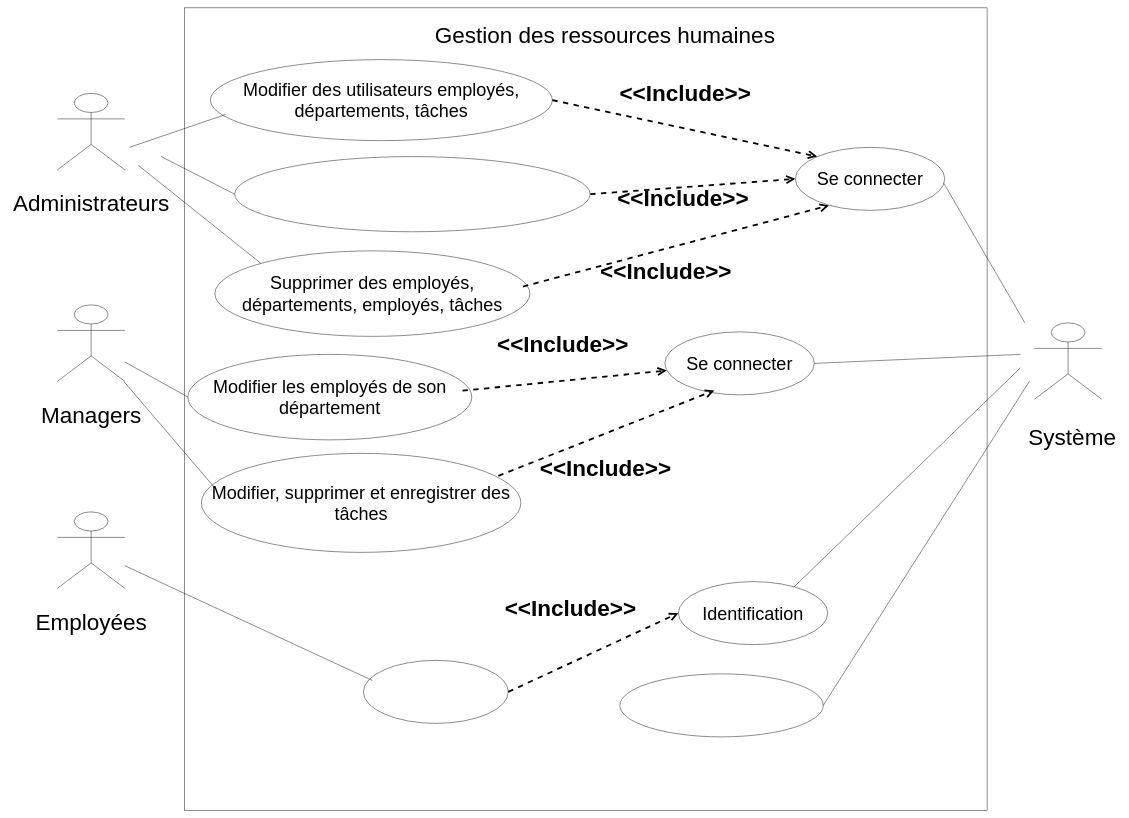
Some shapes in this 1129 by 818 pixel diagram are drawn without their labels. Each missing label, with the centre of its shape:
"Afficher tâches employé" goes at pixel 721 705.
"Enregistrer des utilisateurs, employés, départements, tâches" goes at pixel 412 194.
"Vérifier tâches" goes at pixel 435 691.
